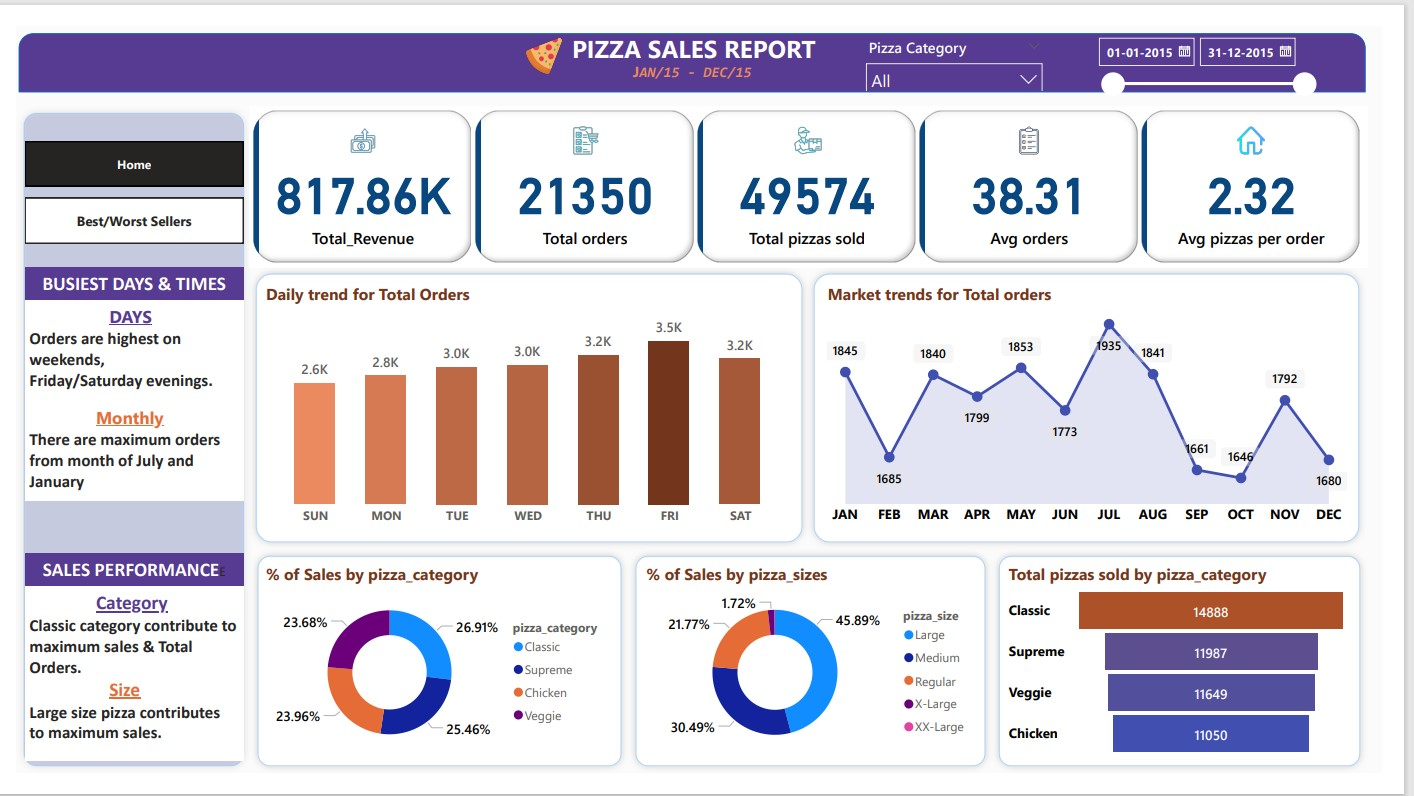

What the dashboard file says about the page in this screenshot:
{"tool":"powerbi","page":{"name":"Home","canvas":[1500,820],"ordinal":0},"visuals":[{"type":"shape","box":[0,86.8,256.6,732.8],"z":0},{"type":"cardVisual","fields":{"Data":["pizza_sales.Total_Revenue","pizza_sales.Total orders","pizza_sales.Total pizzas sold","pizza_sales.Avg orders","pizza_sales.Avg pizzas per order"]},"box":[254.7,86.8,1229.3,177.2],"z":1000},{"type":"shape","box":[1.8,7.4,1480.3,64.6],"z":2000},{"type":"textbox","box":[605.4,0,286.1,49.8],"z":3000},{"type":"textbox","box":[671.9,33.2,155,31.4],"z":4000},{"type":"image","box":[551.9,7.4,53.5,49.8],"z":5000},{"type":"shape","box":[254.7,263.9,616.5,310.1],"z":6000},{"type":"columnChart","title":"Daily trend for Total Orders","fields":{"Category":["pizza_sales.order day"],"Y":["pizza_sales.Total orders"]},"box":[269.5,280.6,585.1,276.9],"z":7000},{"type":"shape","box":[867.5,263.9,614.7,310.1],"z":8000},{"type":"areaChart","title":"Market trends for Total orders","fields":{"Category":["pizza_sales.order month"],"Y":["pizza_sales.Total orders"]},"box":[886,280.6,579.6,276.9],"z":9000},{"type":"shape","box":[256.6,574,415.3,245.5],"z":10000},{"type":"shape","box":[671.9,574,400.5,245.5],"z":11000},{"type":"shape","box":[1070.6,574,413.5,245.5],"z":12000},{"type":"donutChart","title":"% of Sales by pizza_category","fields":{"Category":["pizza_sales.pizza_category"],"Y":["pizza_sales.Total_Revenue"]},"box":[269.5,588.8,389.5,217.8],"z":13000},{"type":"donutChart","title":"% of Sales by pizza_sizes","fields":{"Y":["pizza_sales.Total_Revenue"],"Category":["pizza_sales.pizza_size"]},"box":[686.6,588.8,372.9,217.8],"z":14000},{"type":"funnel","fields":{"Category":["pizza_sales.pizza_category"],"Y":["pizza_sales.Total pizzas sold"]},"box":[1085.3,588.8,382.1,217.8],"z":15000},{"type":"textbox","box":[9.2,263.9,240,36.9],"z":16000},{"type":"textbox","box":[9.2,300.9,240,219.7],"z":17000},{"type":"textbox","box":[9.2,577.7,240,36.9],"z":18000},{"type":"textbox","box":[9.2,614.7,240,192],"z":19000},{"type":"slicer","fields":{"Values":["pizza_sales.pizza_category"]},"box":[922.9,7.4,214.1,62.8],"z":20000},{"type":"slicer","fields":{"Values":["pizza_sales.order_date"]},"box":[1175.8,1.8,260.3,84.9],"z":21000},{"type":"pageNavigator","box":[9.2,125.5,240,49.8],"z":22000},{"type":"pageNavigator","box":[9.2,188.3,240,49.8],"z":23000}]}

Visuals, with their boxes in screenshot pixels (x1, y1, x2, y2), scaled from the page's 1500x820 canvas onto the 1414x796 screenshot:
shape: BBox(0, 84, 242, 795)
cardVisual - pizza_sales.Total_Revenue x pizza_sales.Total orders: BBox(240, 84, 1399, 256)
shape: BBox(2, 7, 1397, 70)
textbox: BBox(571, 0, 840, 48)
textbox: BBox(633, 32, 779, 63)
image: BBox(520, 7, 571, 56)
shape: BBox(240, 256, 821, 557)
"Daily trend for Total Orders" columnChart: BBox(254, 272, 806, 541)
shape: BBox(818, 256, 1397, 557)
"Market trends for Total orders" areaChart: BBox(835, 272, 1382, 541)
shape: BBox(242, 557, 633, 795)
shape: BBox(633, 557, 1011, 795)
shape: BBox(1009, 557, 1399, 795)
"% of Sales by pizza_category" donutChart: BBox(254, 572, 621, 783)
"% of Sales by pizza_sizes" donutChart: BBox(647, 572, 999, 783)
funnel - pizza_sales.pizza_category x pizza_sales.Total pizzas sold: BBox(1023, 572, 1383, 783)
textbox: BBox(9, 256, 235, 292)
textbox: BBox(9, 292, 235, 505)
textbox: BBox(9, 561, 235, 597)
textbox: BBox(9, 597, 235, 783)
slicer - pizza_sales.pizza_category: BBox(870, 7, 1072, 68)
slicer - pizza_sales.order_date: BBox(1108, 2, 1354, 84)
pageNavigator: BBox(9, 122, 235, 170)
pageNavigator: BBox(9, 183, 235, 231)
